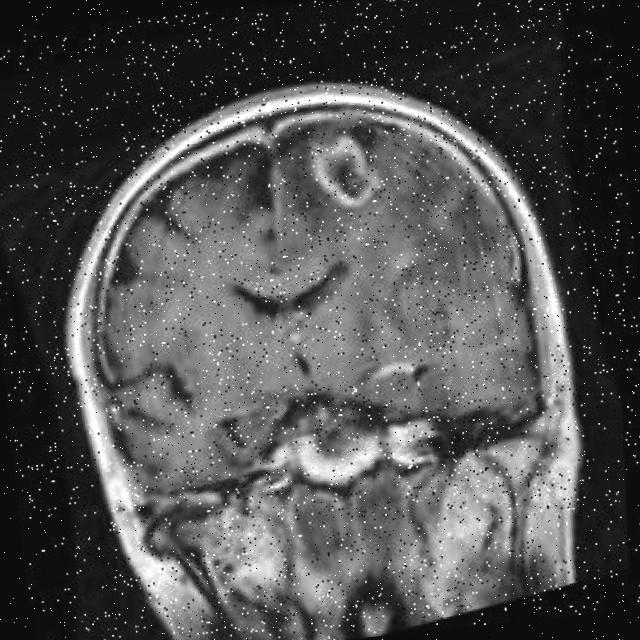LMCI: (297, 102, 393, 224)
